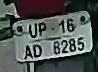1: (57, 19, 67, 34)
2: (59, 39, 70, 54)
5: (77, 36, 86, 52)
6: (65, 17, 76, 34)
8: (68, 37, 77, 53), (52, 40, 60, 55)
A: (25, 45, 33, 61)
D: (32, 43, 43, 58)
P: (37, 20, 48, 39)
U: (28, 22, 38, 39)
